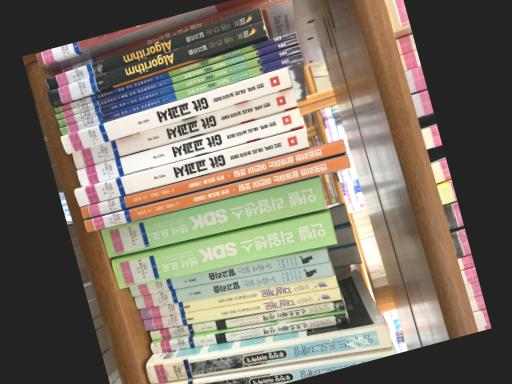book-spine: (80, 139, 345, 218), (84, 155, 349, 232), (54, 37, 297, 120), (58, 52, 301, 135), (60, 67, 290, 154), (56, 45, 299, 127), (52, 32, 296, 113), (45, 22, 265, 105), (74, 128, 307, 206), (53, 0, 290, 76), (71, 88, 296, 168), (44, 9, 262, 91), (100, 178, 326, 257), (75, 108, 302, 186), (111, 213, 336, 288), (143, 324, 391, 383), (128, 248, 328, 296), (133, 262, 332, 309), (139, 275, 337, 319), (142, 287, 340, 330), (149, 312, 348, 354), (149, 300, 344, 340), (173, 350, 395, 384), (34, 14, 179, 66)
